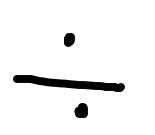div: (12, 32, 123, 116)
